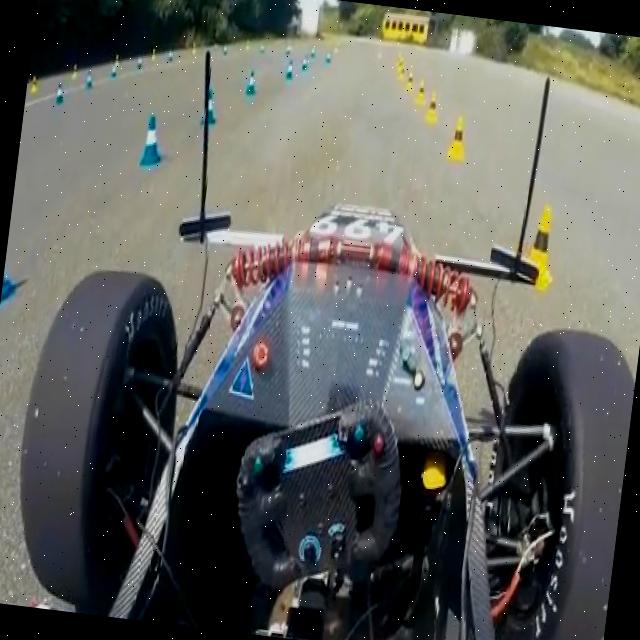blue_cone: (0, 200, 27, 316), (136, 111, 166, 170), (200, 86, 220, 126), (244, 67, 258, 96)
yellow_cone: (516, 196, 561, 292), (444, 114, 470, 164), (424, 90, 441, 125), (413, 75, 428, 105)
